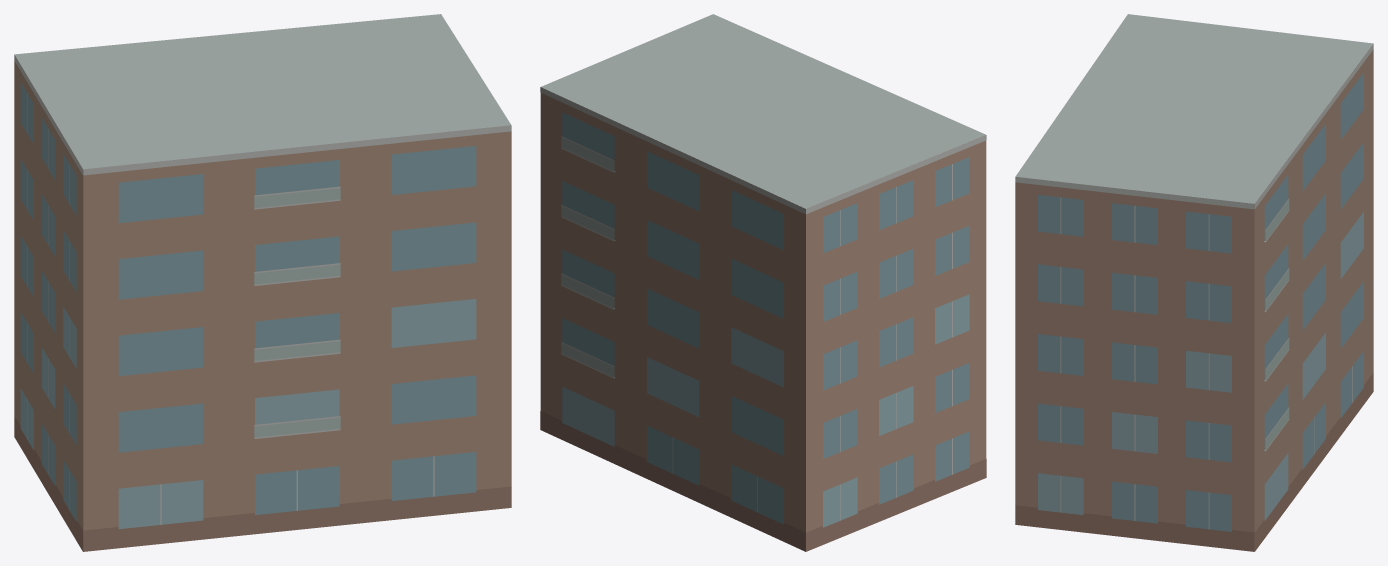
File: survey-upis-32972984.glb
3 renders of one model, left to right at view 1: azimuth 30°, elevation 25°; view 2: azimuth 150°, elevation 25°; view 3: azimuth 270°, elevation 25°, orthographic. The views are drawn at different scales.
Visible parts, largest first — view 1: survey-upis-32972984.tmp; view 2: survey-upis-32972984.tmp; view 3: survey-upis-32972984.tmp.
Part boxes in pixels (x1,y1,x2,y2): survey-upis-32972984.tmp: (14,14,511,551); survey-upis-32972984.tmp: (540,14,986,551); survey-upis-32972984.tmp: (1015,14,1373,551).
Bounding box in the file's own units: 17.91 × 15.3 × 14.29.
